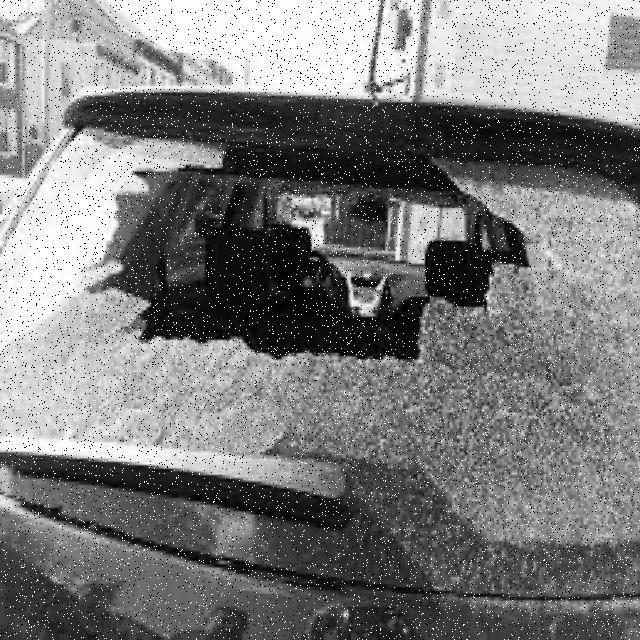Rear-windscreen-Damage: (0, 81, 632, 582)
